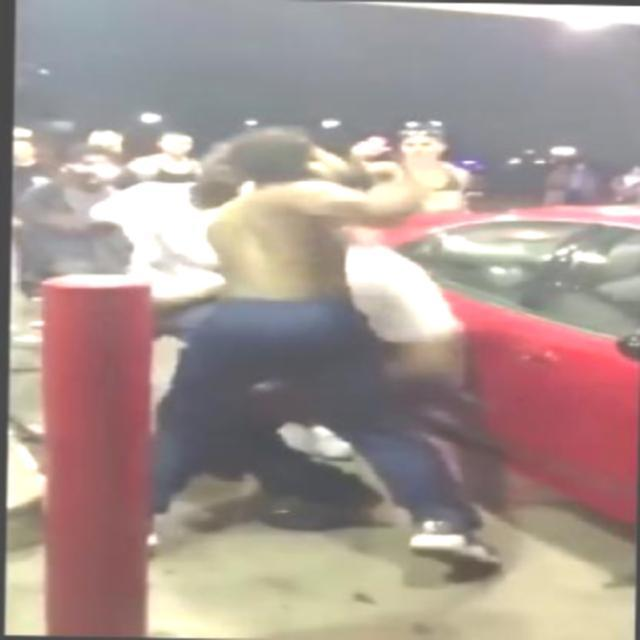fight: (19, 127, 476, 518)
